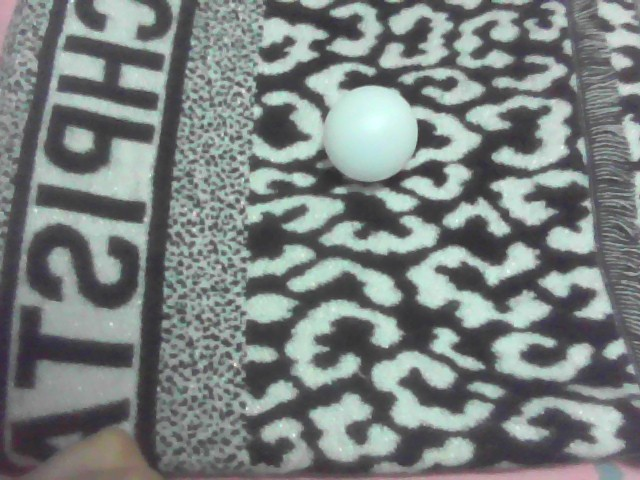ball: (325, 84, 419, 182)
